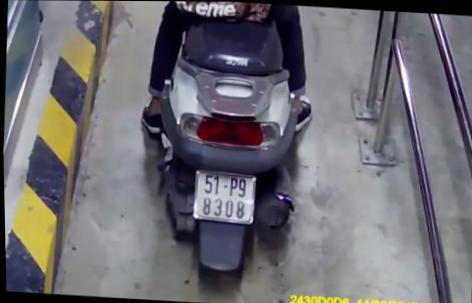LP: (189, 168, 257, 225)
